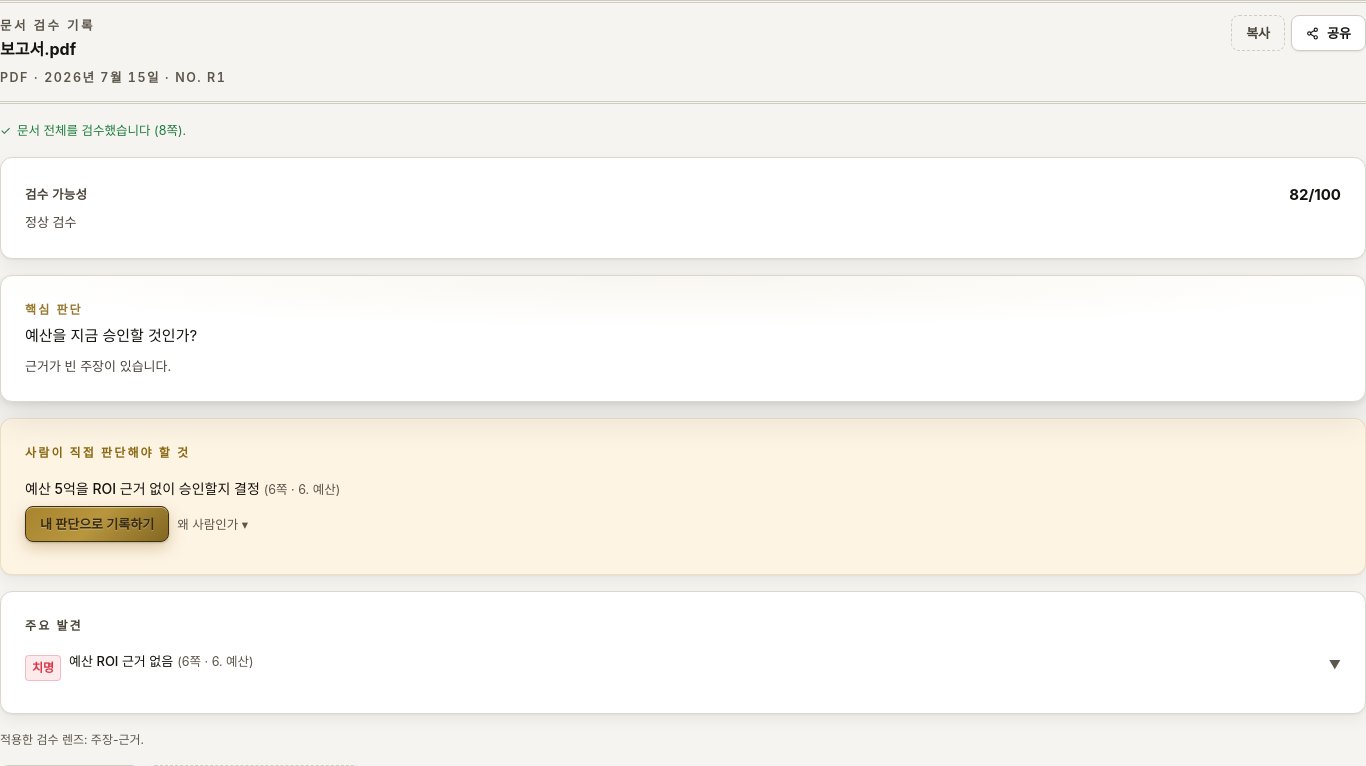
it: ReceiptView — scannable by default › shows the obligation decision + own button, hides why/evidence until tapped
Check: the text "재무 리스크는 사람이 감수" is not shown
Step 1. Click the button "왜 사람인가 ▾" → click(213, 524), box 177,514 -> 248,535
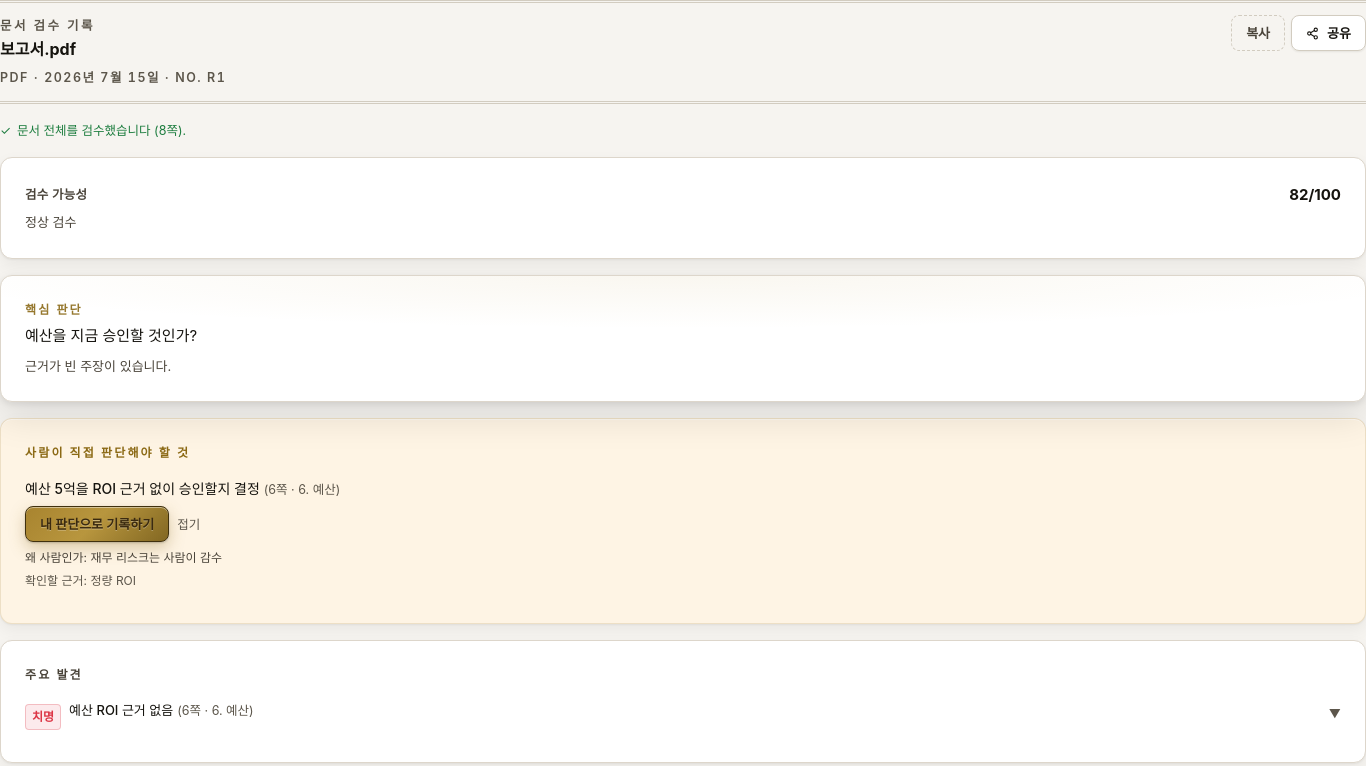
Check: the text "재무 리스크는 사람이 감수" is shown, box 90,550 -> 222,566
